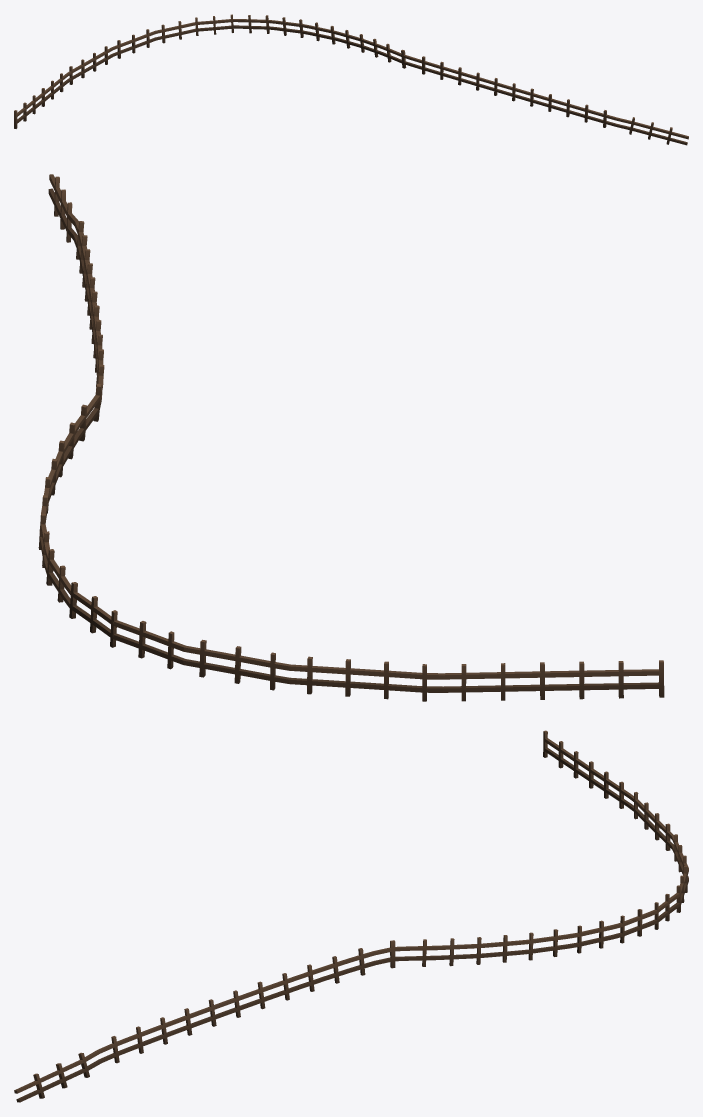
File: vallacasacobretizo.fbx
3 views of the same model, one above another, from view 1: azimuth 30°, elevation 25°; view 2: azimuth 150°, elevation 25°; view 3: azimuth 270°, elevation 25° (orthographic). The views are drawn at different scales.
Parts seen in each view (by area): view 1: Fance_boundary.001; view 2: Fance_boundary.001; view 3: Fance_boundary.001.
Part boxes in pixels (x1,y1,x2,y2): Fance_boundary.001: (14,14,688,145); Fance_boundary.001: (38,174,664,701); Fance_boundary.001: (14,730,688,1102).
Size of the model in its own units: 2820 by 217 by 2332.
1 material, 1 textured.
